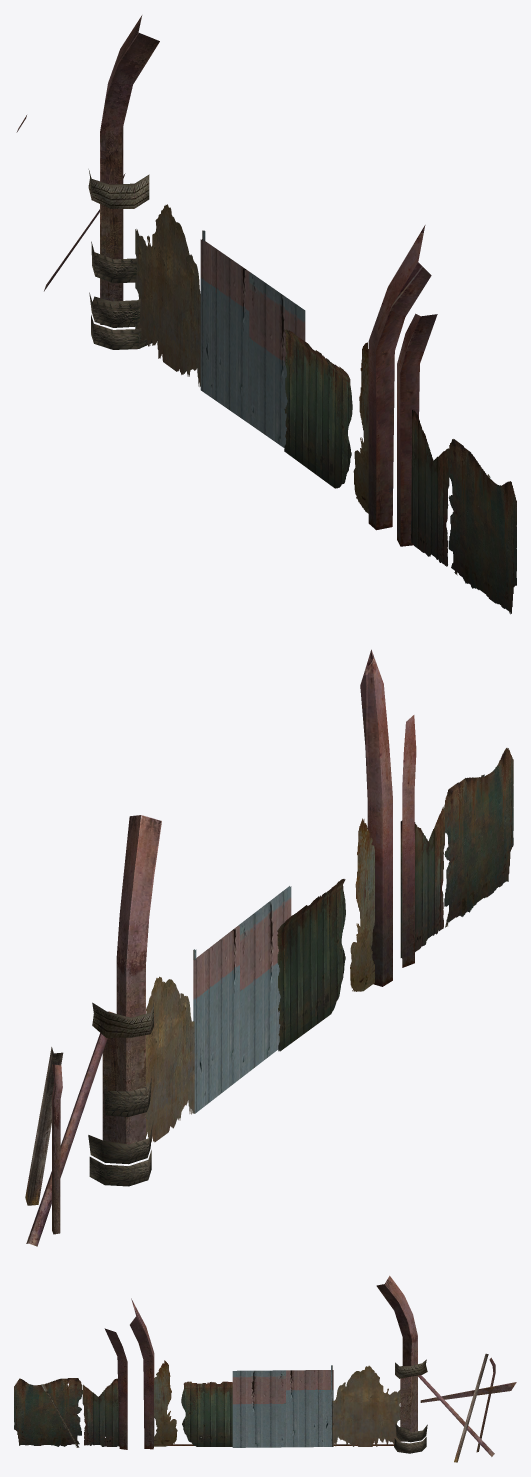
File: Prop_Wj016_lod2.glb
The picture shows the model from 3 angles, top to bottom: view 1: azimuth 30°, elevation 25°; view 2: azimuth 150°, elevation 25°; view 3: azimuth 270°, elevation 25°; orthographic projection. The views are drawn at different scales.
Visible parts, largest first — view 1: xiutz_wj016_0_lod1; view 2: xiutz_wj016_0_lod1; view 3: xiutz_wj016_0_lod1.
Boxes of the visible parts, left/top/right/bottom form: xiutz_wj016_0_lod1: left=16, top=15, right=516, bottom=614; xiutz_wj016_0_lod1: left=25, top=649, right=513, bottom=1246; xiutz_wj016_0_lod1: left=14, top=1275, right=516, bottom=1462.
Size of the model in its own units: 1.39 by 5.75 by 14.65.
2 materials, 2 textured.
